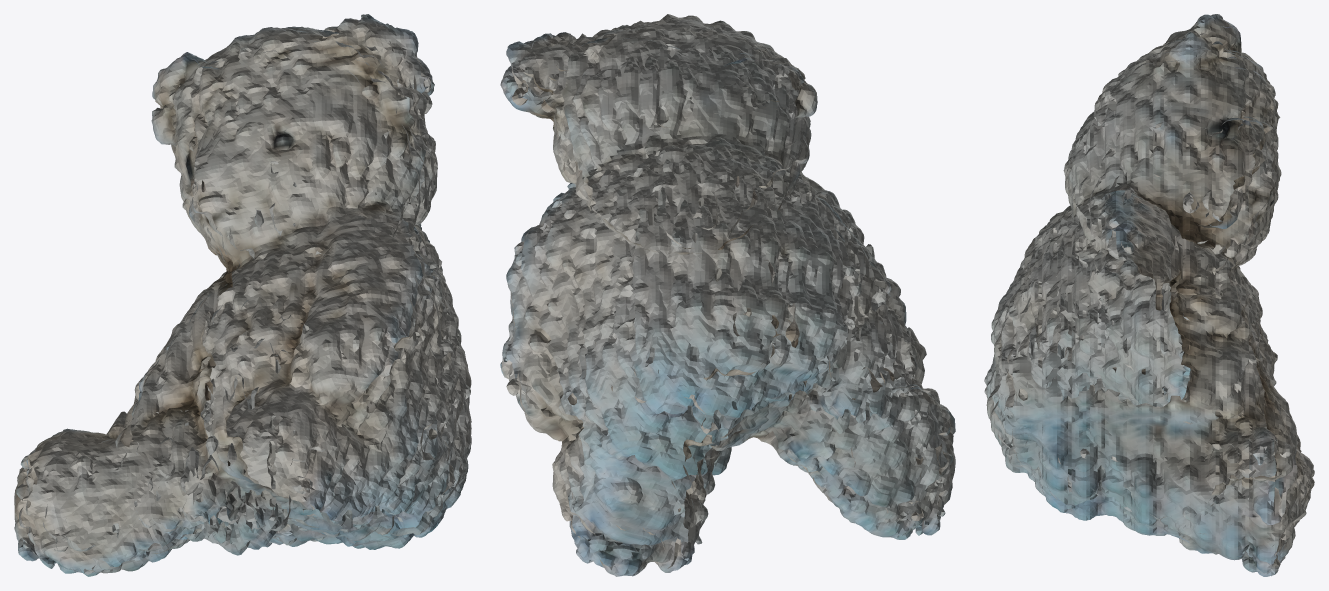
The picture shows the model from 3 angles, left to right: view 1: azimuth 30°, elevation 25°; view 2: azimuth 150°, elevation 25°; view 3: azimuth 270°, elevation 25°; orthographic projection. The views are drawn at different scales.
Parts seen in each view (by area): view 1: geometry_0; view 2: geometry_0; view 3: geometry_0.
Part boxes in pixels (<box>): geometry_0: <box>14,14,471,576</box>; geometry_0: <box>500,14,955,576</box>; geometry_0: <box>984,14,1314,576</box>.
Bounding box in the file's own units: 1.37 × 1.6 × 0.969.
